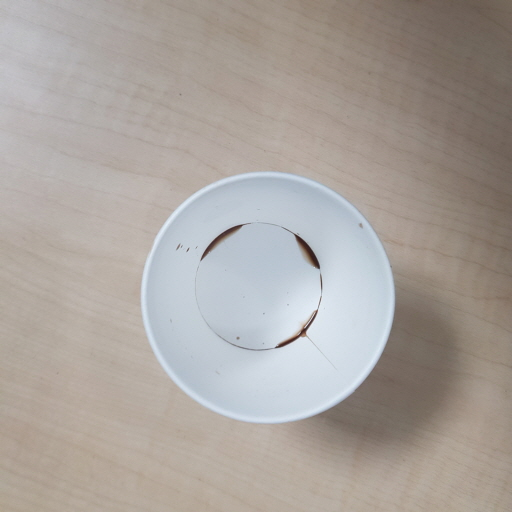Paper_1: (136, 168, 393, 422)
